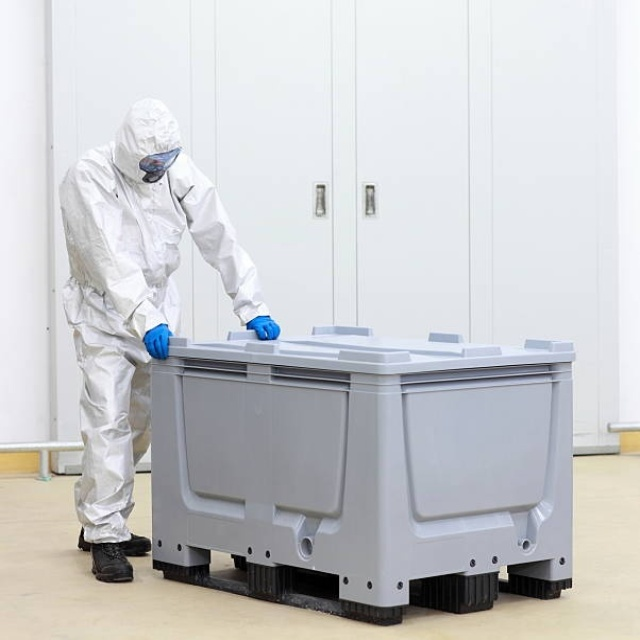Guantes: (143, 324, 172, 360), (247, 315, 280, 340)
